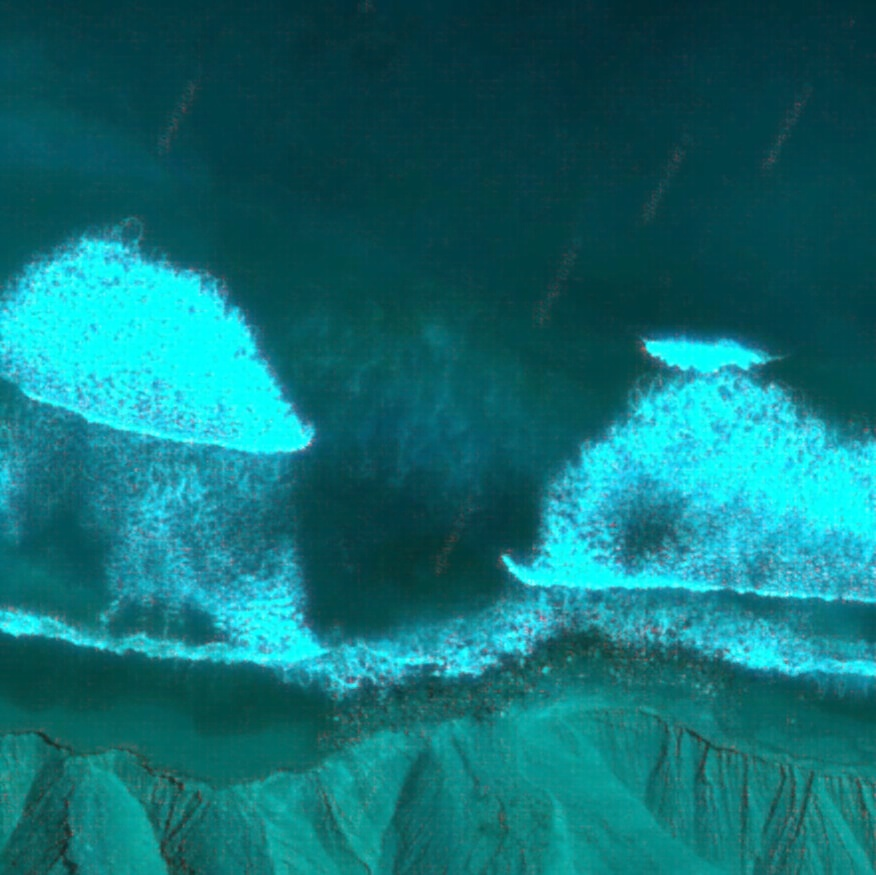rip_current: (230, 207, 655, 617)
